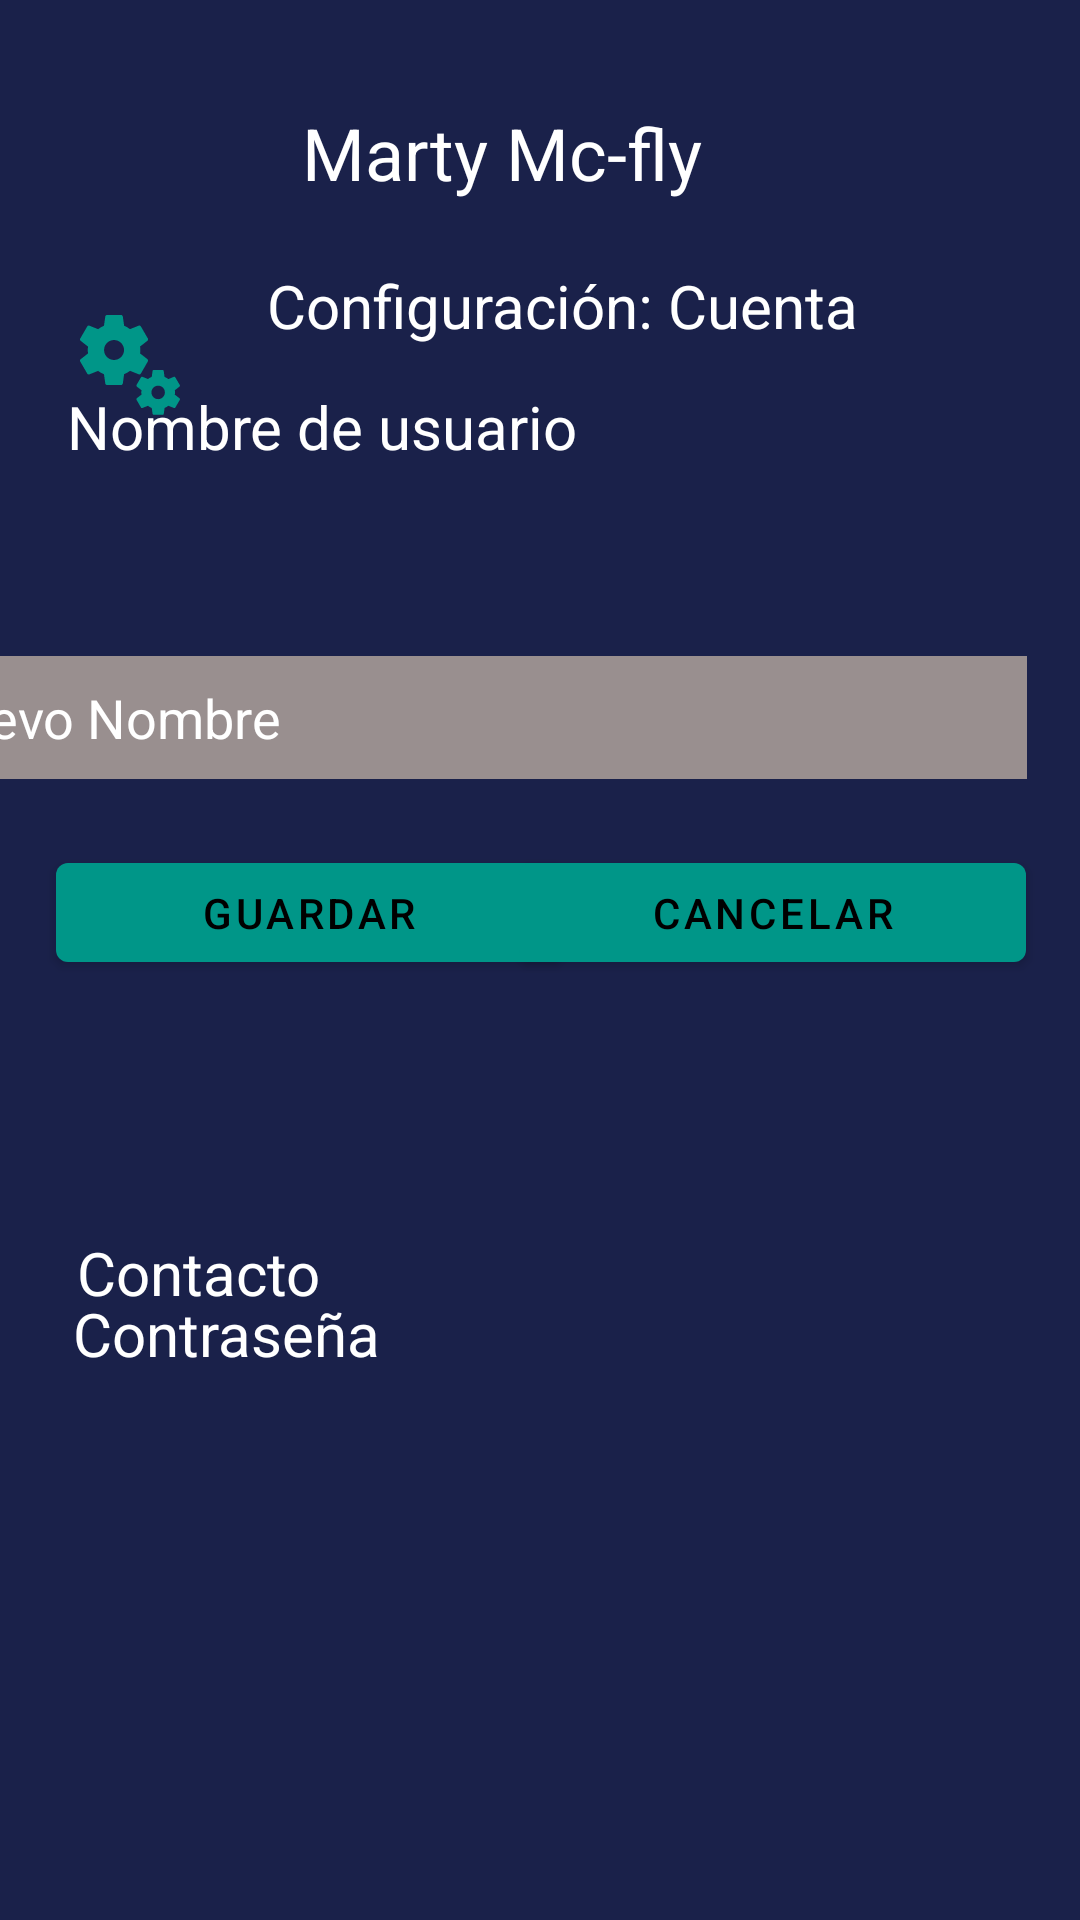

Named icons in this screenshot (1080 x 1920) and their centers, point (x, y):
configverde: point (130, 365)
